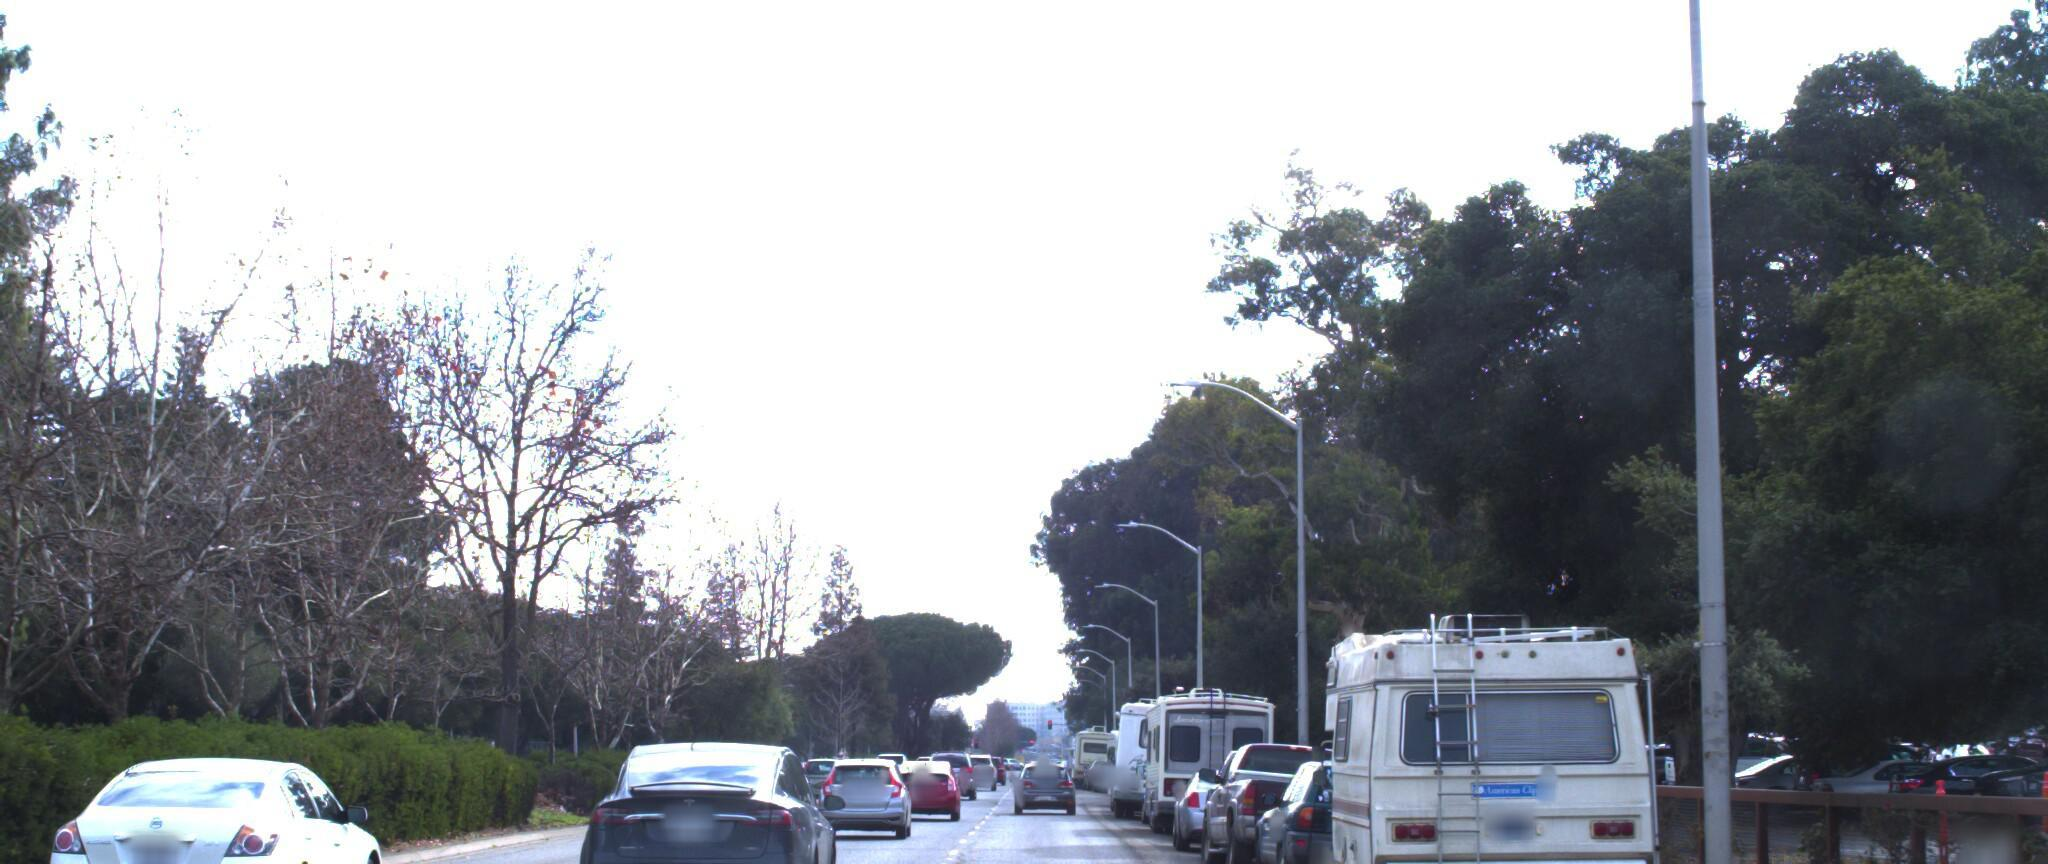car: (39, 733, 402, 864), (566, 732, 852, 864), (1185, 717, 1398, 864), (1236, 740, 1439, 864), (805, 735, 930, 831), (1159, 749, 1284, 844), (880, 744, 968, 817)
other_vehicle: (1293, 589, 1678, 864), (1126, 662, 1277, 814), (1095, 677, 1224, 805)
